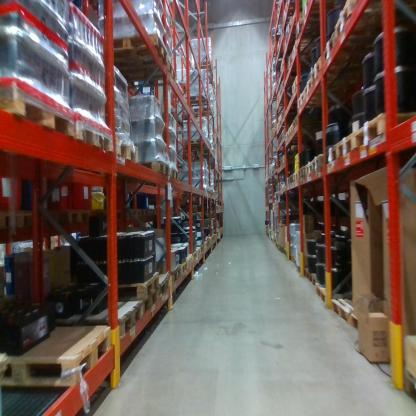pallet: (1, 319, 115, 397), (2, 83, 78, 150), (354, 105, 414, 159), (61, 303, 142, 342), (107, 28, 169, 76), (75, 268, 159, 301), (60, 121, 113, 165), (329, 2, 391, 38), (320, 32, 378, 63), (307, 57, 368, 86), (109, 138, 145, 182), (114, 65, 181, 84), (301, 78, 346, 105), (59, 205, 97, 234), (1, 206, 37, 236), (331, 297, 365, 328), (335, 129, 359, 170), (296, 90, 342, 110), (134, 155, 169, 181), (294, 16, 326, 38), (137, 289, 159, 317), (316, 283, 345, 303), (179, 137, 213, 154), (322, 142, 339, 175), (301, 2, 330, 21), (150, 273, 170, 297), (180, 91, 212, 106), (291, 115, 323, 129), (185, 106, 216, 120), (284, 131, 314, 145), (164, 163, 182, 185), (188, 59, 215, 73), (312, 149, 323, 176), (287, 123, 304, 137), (305, 270, 319, 287), (306, 159, 316, 182), (168, 265, 180, 284), (298, 163, 309, 183), (293, 165, 300, 185), (296, 263, 306, 276), (178, 259, 187, 273), (280, 155, 294, 163), (191, 250, 197, 264), (289, 172, 295, 186), (187, 252, 193, 265), (199, 243, 204, 254), (285, 177, 290, 188), (196, 245, 201, 255)
